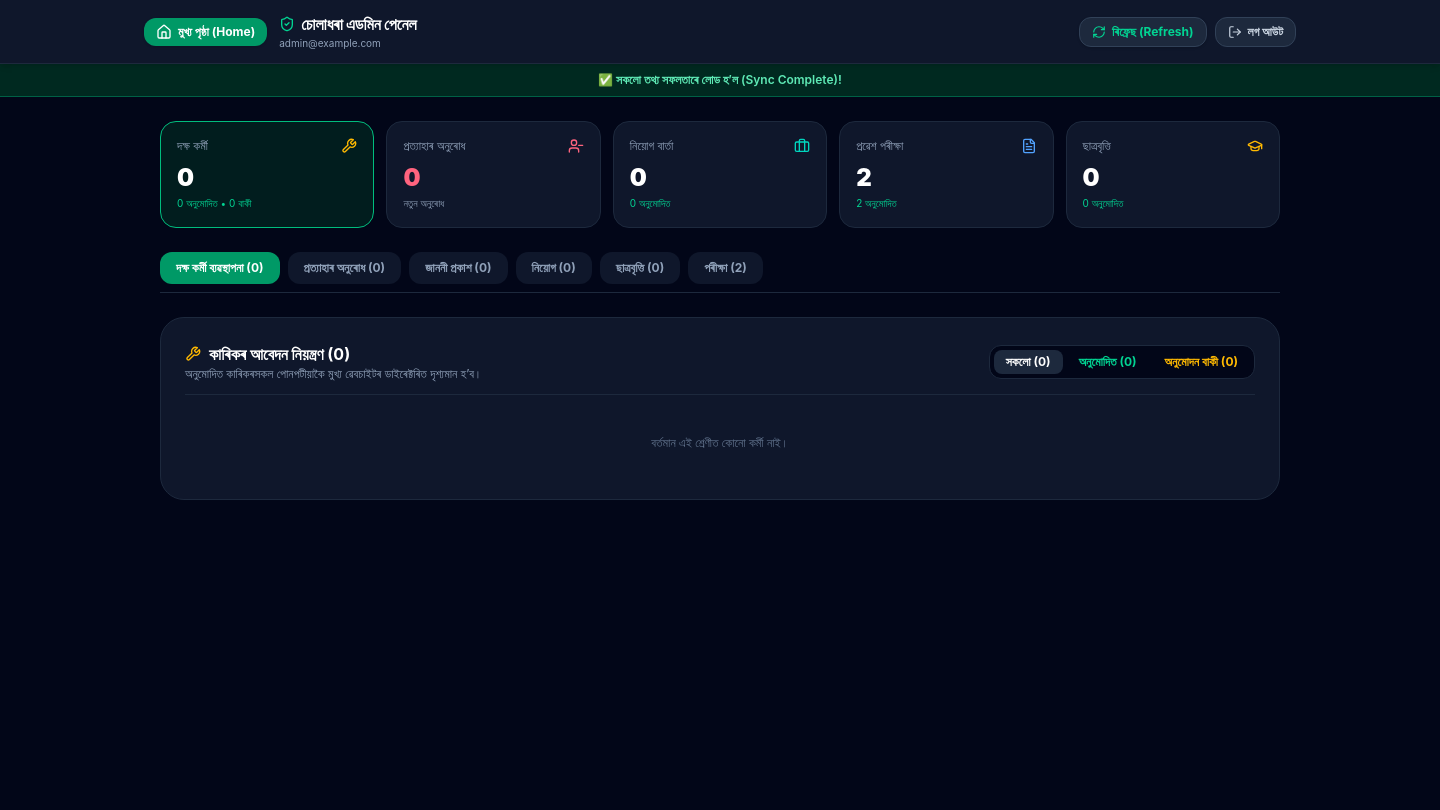
Scenario: Admin › marks expired exams and shows exam titles
expect the text "✅ সকলো তথ্য সফলতাৰে লোড হ’ল (Sync Complete)!" is shown: met, box [0,64,1439,97]
Step 1. Click the button "পৰীক্ষা (2)" → point(726, 268), box [688,252,763,284]
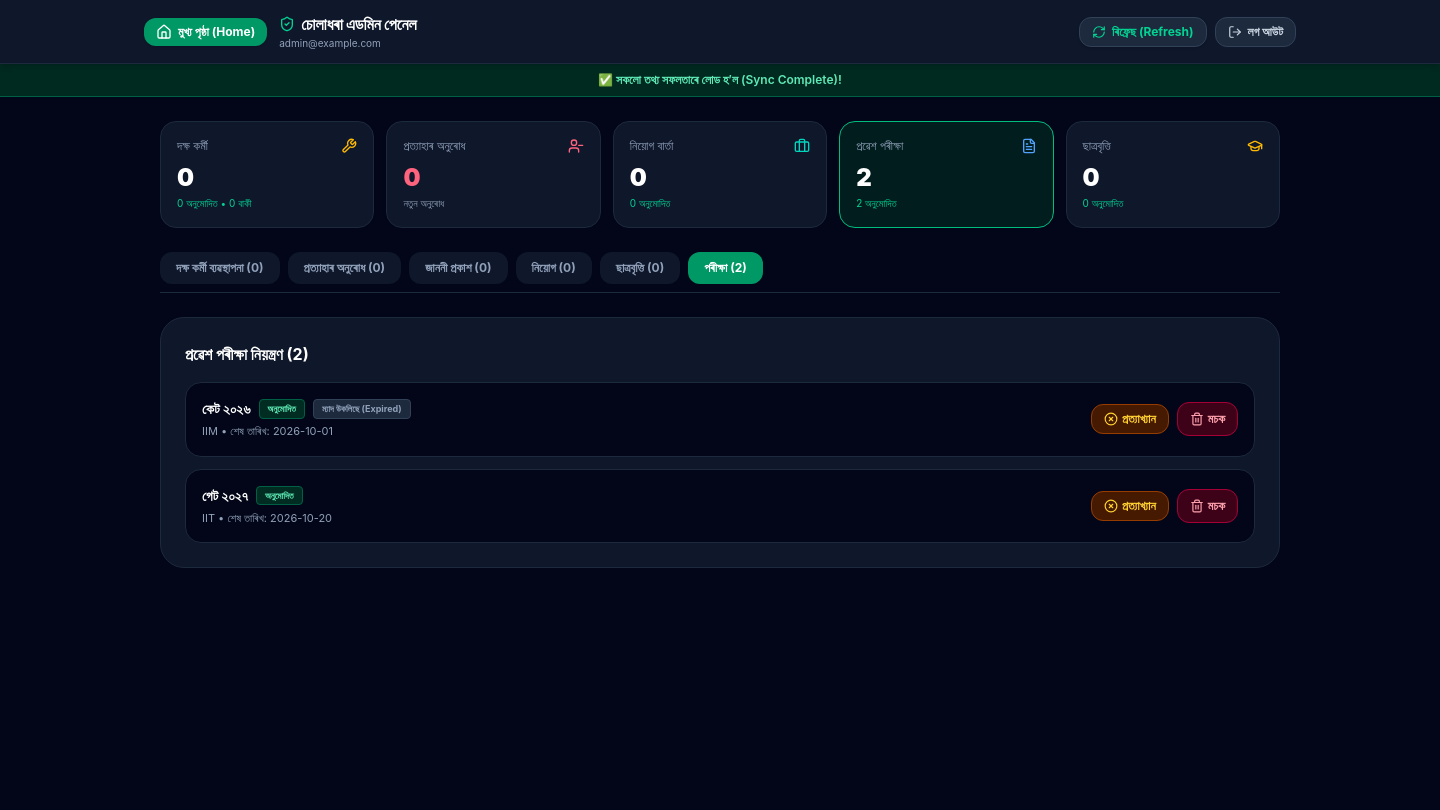
expect the heading "কেট ২০২৬" is shown: met, box [202,399,250,419]
expect the heading "গেট ২০২৭" is shown: met, box [202,486,248,506]
expect the text "ম্যাদ উকলিছে (Expired)" is shown once: met, box [313,399,411,419]
